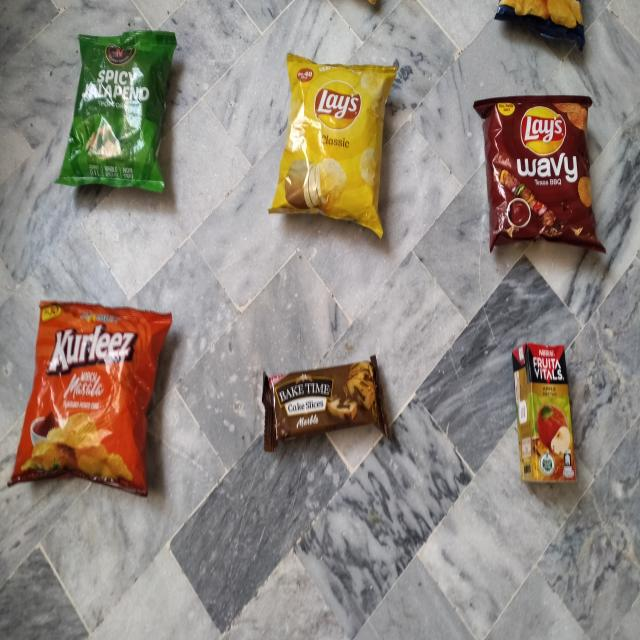Plastic: (19, 296, 165, 490), (272, 53, 394, 237), (477, 94, 605, 244), (66, 30, 172, 186), (264, 369, 389, 442), (515, 346, 578, 482)
